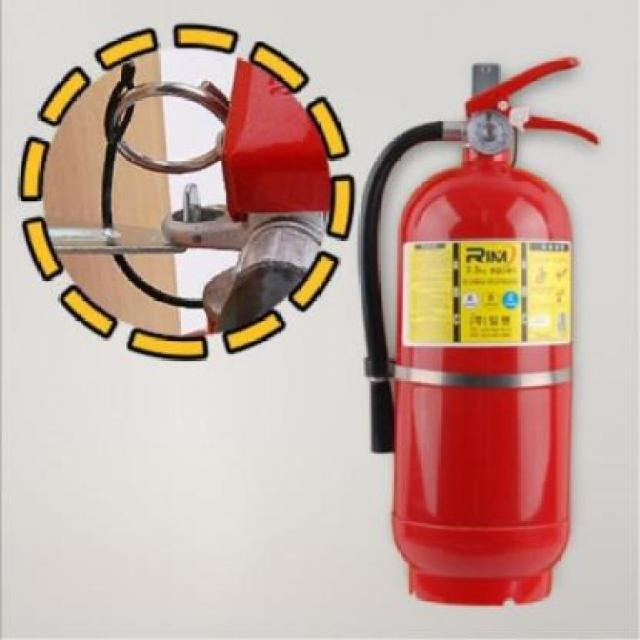fire extinguisher: (355, 54, 600, 608)
